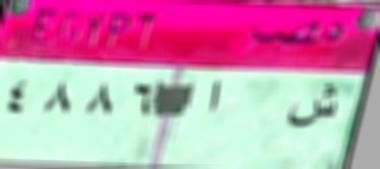4: (3, 77, 30, 118)
6: (130, 79, 158, 119)
8: (36, 75, 74, 122), (83, 82, 114, 123)
alif: (203, 75, 226, 118)
sheen: (282, 82, 346, 133)
